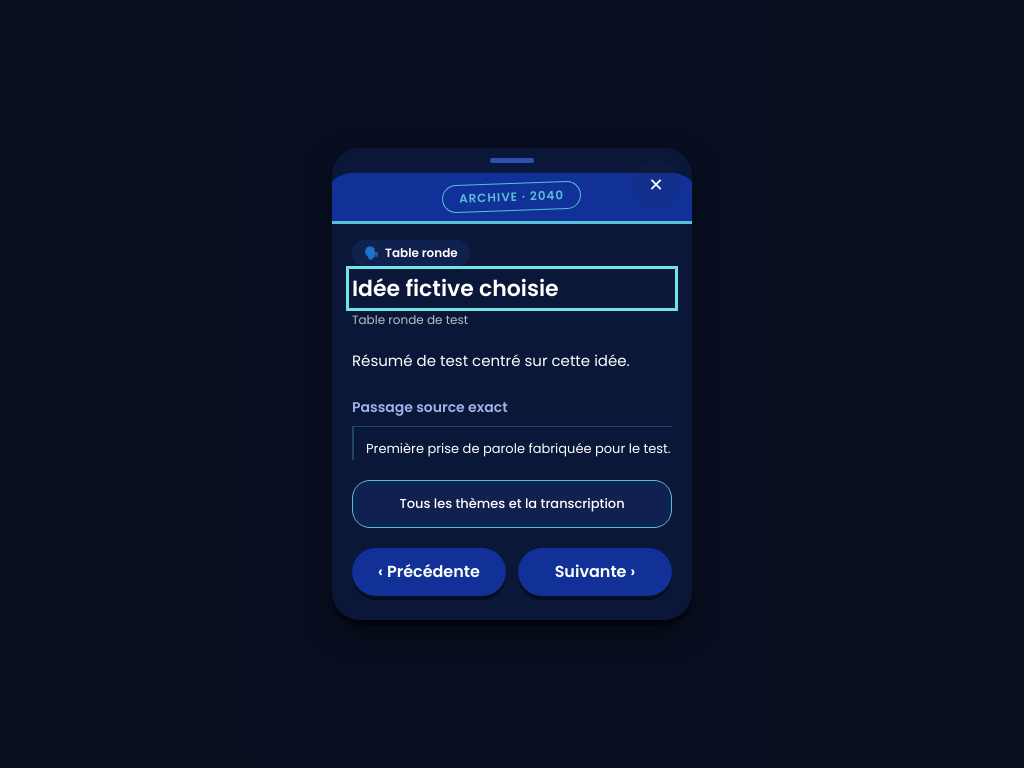
Test case: ArchiveCard › présente le thème choisi avant le programme, avec sa source exacte visible et un retour à la table complète
This screenshot has width=1024, height=768.
Check: the text "Première prise de parole fabriquée pour le test." is shown, box [352,426,672,460]
Check: the text with test id "archive-focused-source" reads "Première prise de parole fabriquée pour le test.", box [366,439,670,458]
Click the button with test id "archive-all-highlights". click: (512, 504)
box: [352,480,672,528]
(page scrolled)
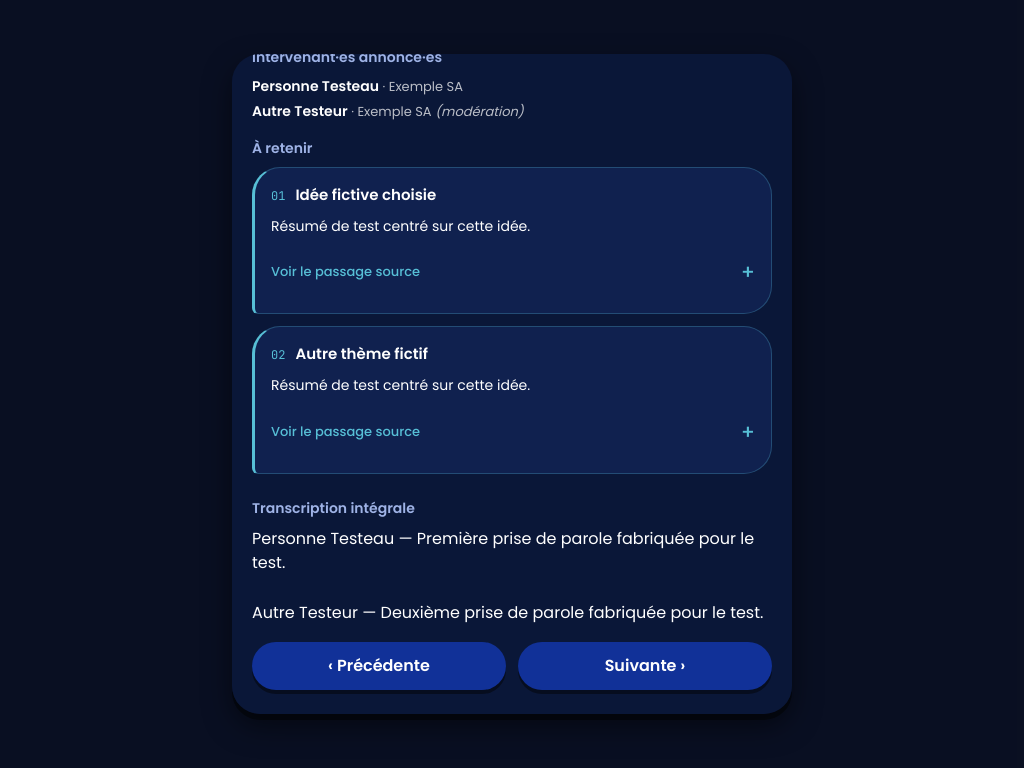
Check: the element with test id "archive-transcript" is shown, box [252,498,772,626]
Check: the number of list items with test id "archive-highlight" is 2, box [252,167,772,314]; [252,326,772,474]
